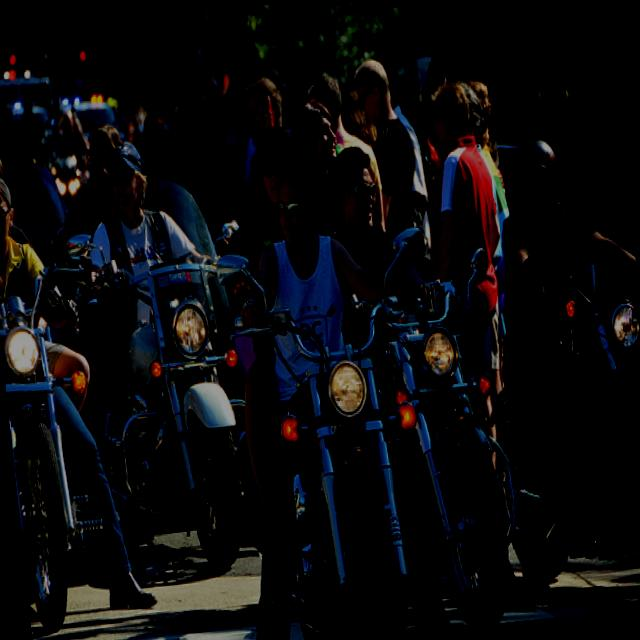Vehicle: (212, 230, 460, 640), (75, 170, 275, 580), (366, 240, 552, 632), (471, 226, 640, 622), (0, 232, 132, 631), (0, 69, 54, 133)
